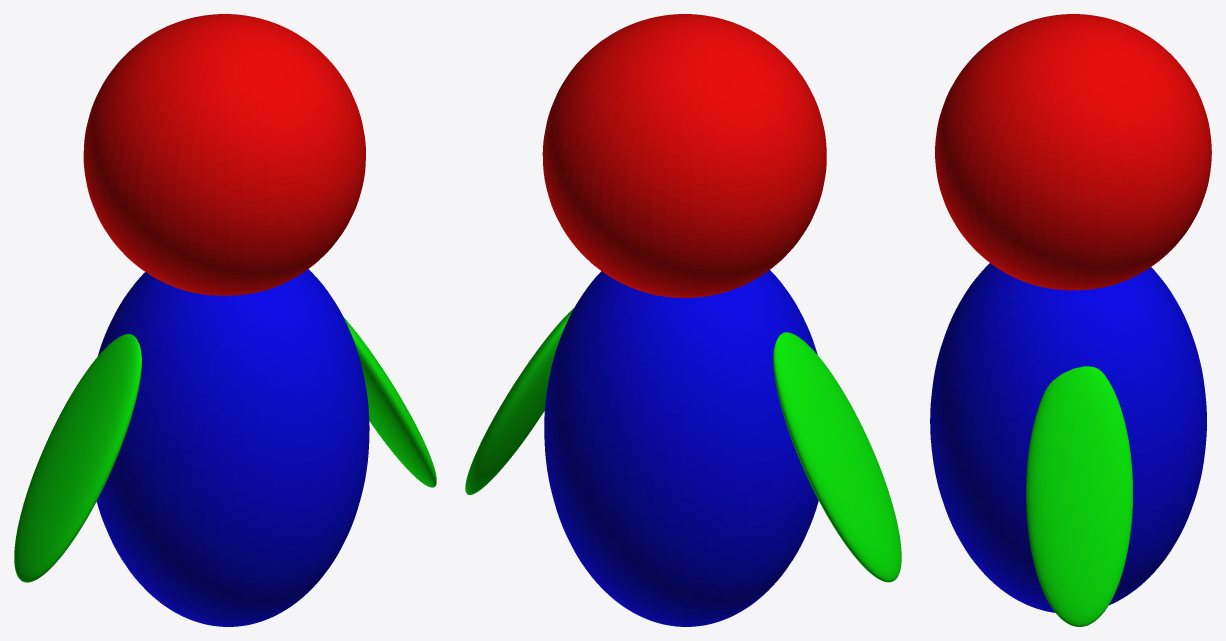
File: human.obj
3 renders of one model, left to right at view 1: azimuth 30°, elevation 25°; view 2: azimuth 150°, elevation 25°; view 3: azimuth 270°, elevation 25°, orthographic. The views are drawn at different scales.
Size of the model in its own units: 3.4 by 4.6 by 2.04.
